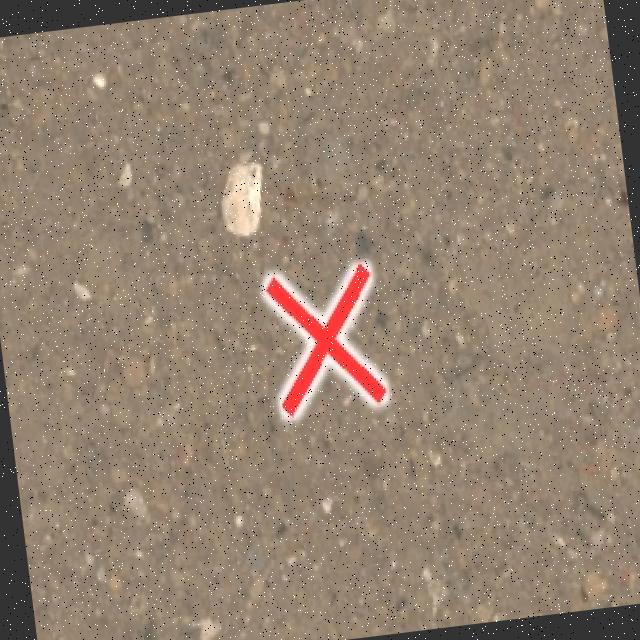x_marker: (264, 264, 386, 414)
